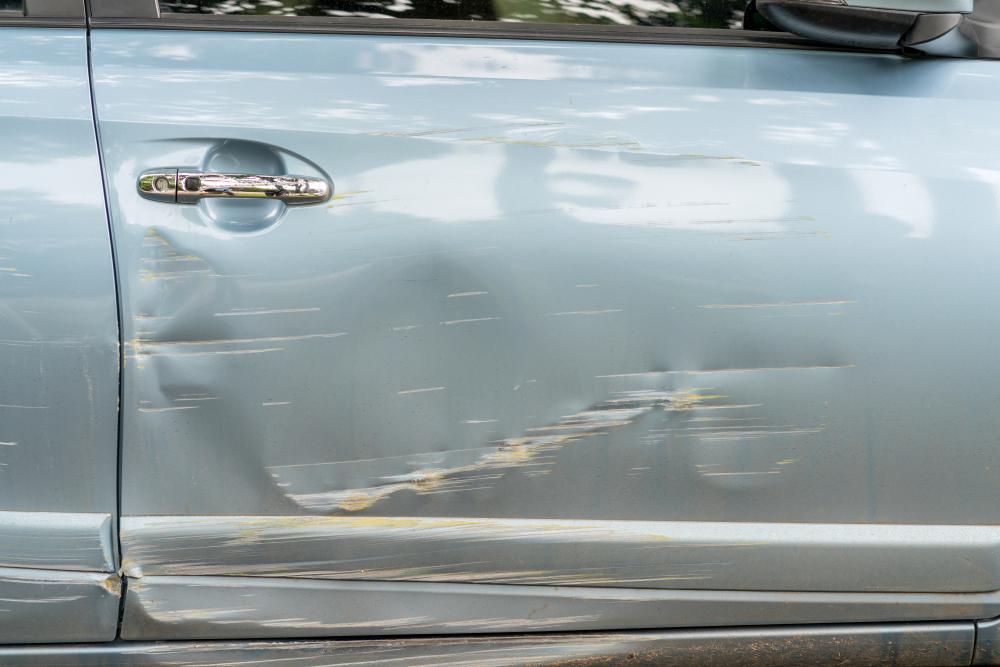dent: (127, 230, 854, 504)
scratch: (123, 506, 752, 639), (361, 120, 820, 235), (153, 632, 647, 667)
